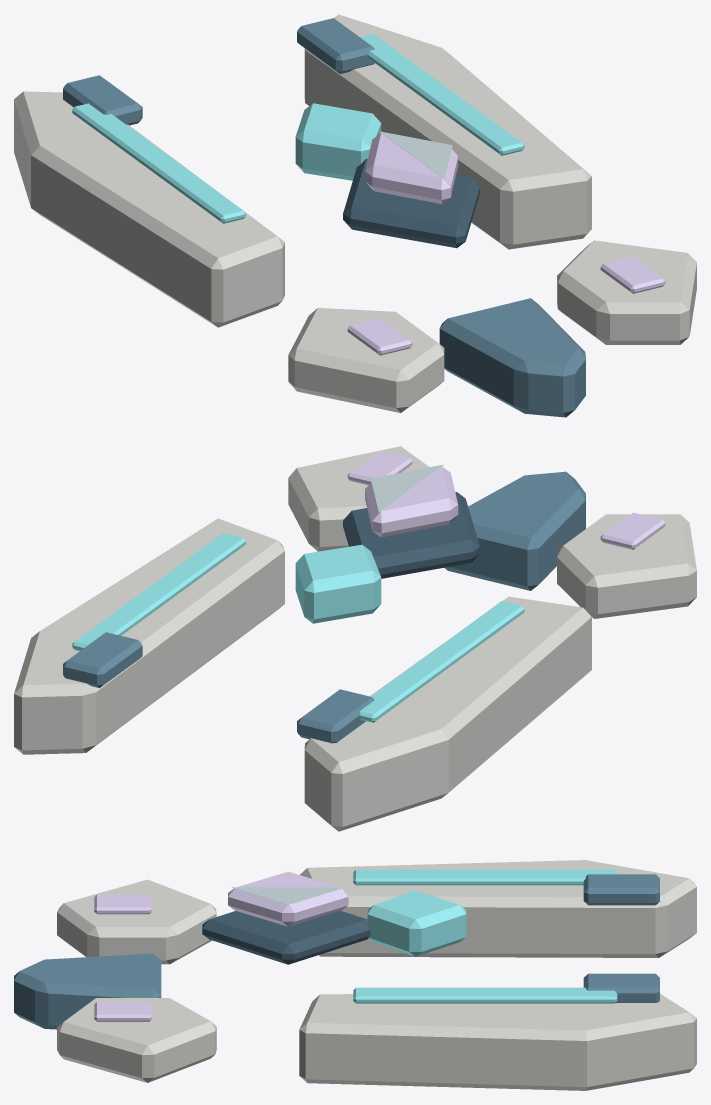
File: beam.glb
The picture shows the model from 3 angles, top to bottom: view 1: azimuth 30°, elevation 25°; view 2: azimuth 150°, elevation 25°; view 3: azimuth 270°, elevation 25°; orthographic projection. The views are drawn at different scales.
Parts seen in each view (by area): view 1: SeparatedOpticalFork, SeparatedOpticalFork.001, SeparateAftKeel.003, DetachedAftGuard.006, DetachedAftGuard.007, CoreDarkBacking.003, AxialFocusingLens, BeamLinearTrack, BeamLinearTrack.001, SuspendedPhaseCore.003, OpticalJaw.001, OpticalJaw (+3 smaller); view 2: SeparatedOpticalFork, SeparatedOpticalFork.001, DetachedAftGuard.006, SeparateAftKeel.003, DetachedAftGuard.007, CoreDarkBacking.003, AxialFocusingLens, BeamLinearTrack, BeamLinearTrack.001, SuspendedPhaseCore.003, OpticalJaw.001, OpticalJaw (+3 smaller); view 3: SeparatedOpticalFork.001, SeparatedOpticalFork, DetachedAftGuard.007, DetachedAftGuard.006, SeparateAftKeel.003, CoreDarkBacking.003, AxialFocusingLens, BeamLinearTrack.001, BeamLinearTrack, SuspendedPhaseCore.003, OpticalJaw, OpticalJaw.001 (+3 smaller).
Boxes of the visible parts, x1,y1,x2,y2 form: SeparatedOpticalFork: (14,91,284,327); SeparatedOpticalFork.001: (304,14,591,249); SeparateAftKeel.003: (439,298,585,417); DetachedAftGuard.006: (288,308,444,412); DetachedAftGuard.007: (557,240,696,344); CoreDarkBacking.003: (343,158,479,248); AxialFocusingLens: (295,103,381,180); BeamLinearTrack: (72,103,245,223); BeamLinearTrack.001: (360,34,524,155); SuspendedPhaseCore.003: (365,133,458,203); OpticalJaw.001: (297,18,374,73); OpticalJaw: (63,75,142,125); SeparatedOpticalFork: (304,596,591,831); SeparatedOpticalFork.001: (14,518,284,754); DetachedAftGuard.006: (557,514,696,618); SeparateAftKeel.003: (444,471,585,590); DetachedAftGuard.007: (288,446,429,551); CoreDarkBacking.003: (343,492,479,578); AxialFocusingLens: (295,544,381,623); BeamLinearTrack: (359,601,524,722); BeamLinearTrack.001: (72,533,245,651); SuspendedPhaseCore.003: (365,466,458,537); OpticalJaw.001: (63,632,142,687); OpticalJaw: (297,689,374,743); SeparatedOpticalFork.001: (299,994,696,1090); SeparatedOpticalFork: (300,860,696,957); DetachedAftGuard.007: (57,998,216,1082); DetachedAftGuard.006: (57,879,216,964); SeparateAftKeel.003: (14,953,161,1029); CoreDarkBacking.003: (202,911,370,964); AxialFocusingLens: (367,890,466,956); BeamLinearTrack.001: (353,987,617,1003); BeamLinearTrack: (353,869,617,885); SuspendedPhaseCore.003: (228,871,348,926); OpticalJaw: (583,874,659,905); OpticalJaw.001: (583,973,659,1002).
Bounding box in the file's own units: 1.32 × 0.451 × 2.15.
